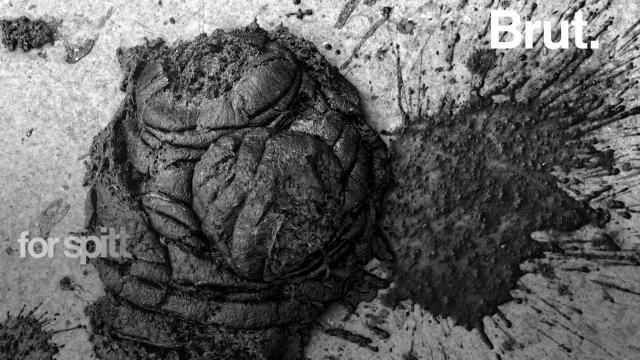spit: (378, 84, 638, 346)
